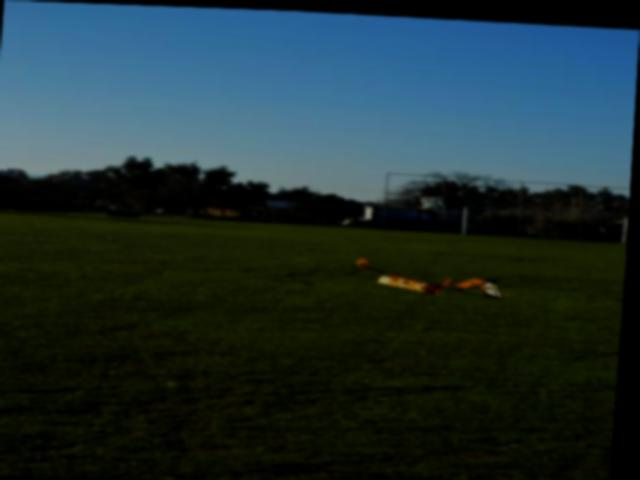iha: (353, 250, 511, 293)
